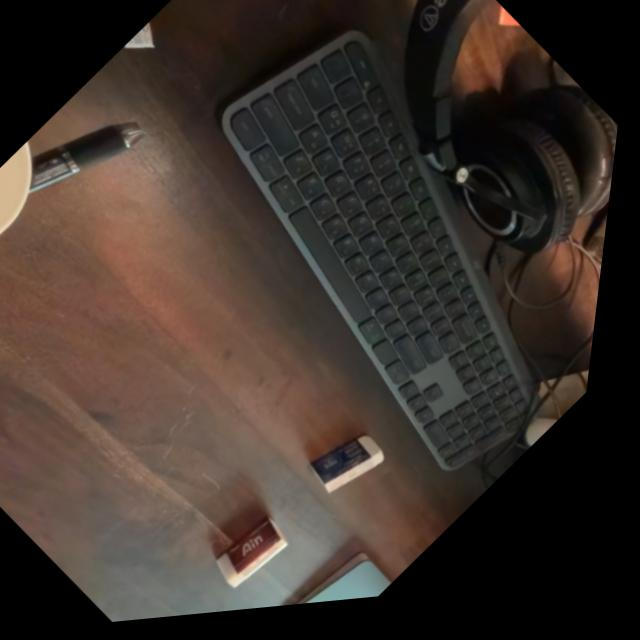blue: (298, 411, 418, 529)
red: (204, 498, 322, 614)
